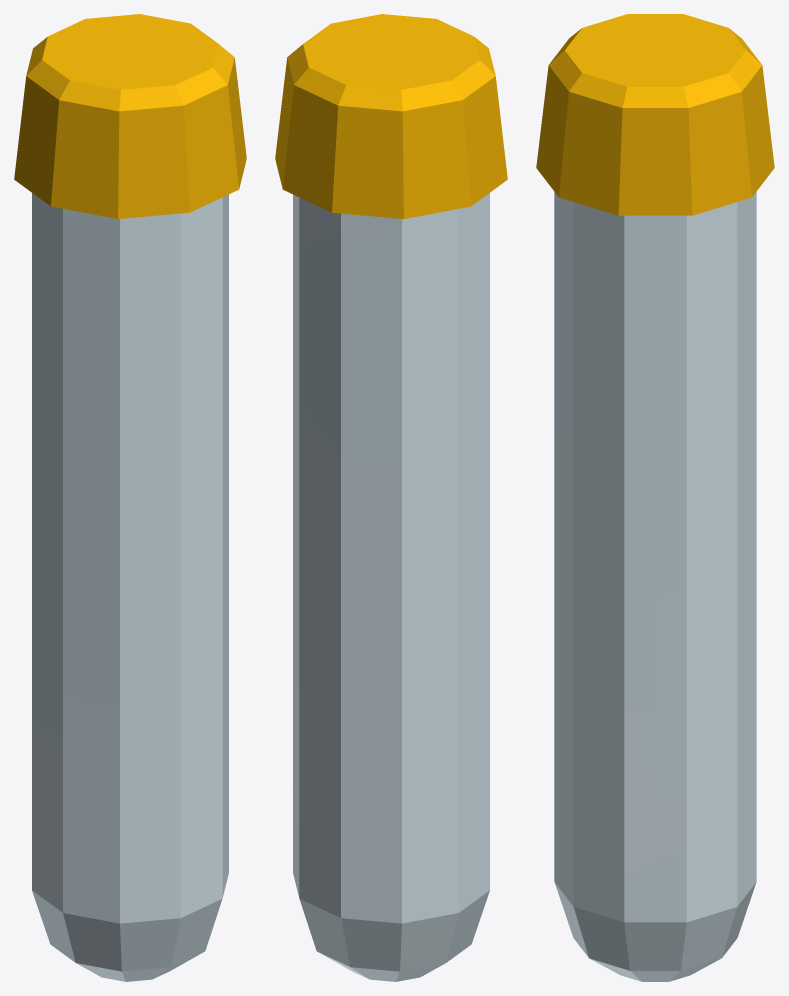
3 renders of one model, left to right at view 1: azimuth 30°, elevation 25°; view 2: azimuth 150°, elevation 25°; view 3: azimuth 270°, elevation 25°, orthographic.
Parts seen in each view (by area): view 1: test_tube_2; view 2: test_tube_2; view 3: test_tube_2.
Part boxes in pixels (box(x1,y1,x2,y2)): test_tube_2: box(14, 14, 246, 981); test_tube_2: box(275, 14, 507, 981); test_tube_2: box(536, 14, 774, 981).
Bounding box in the file's own units: 0.0284 × 0.1262 × 0.0299.
